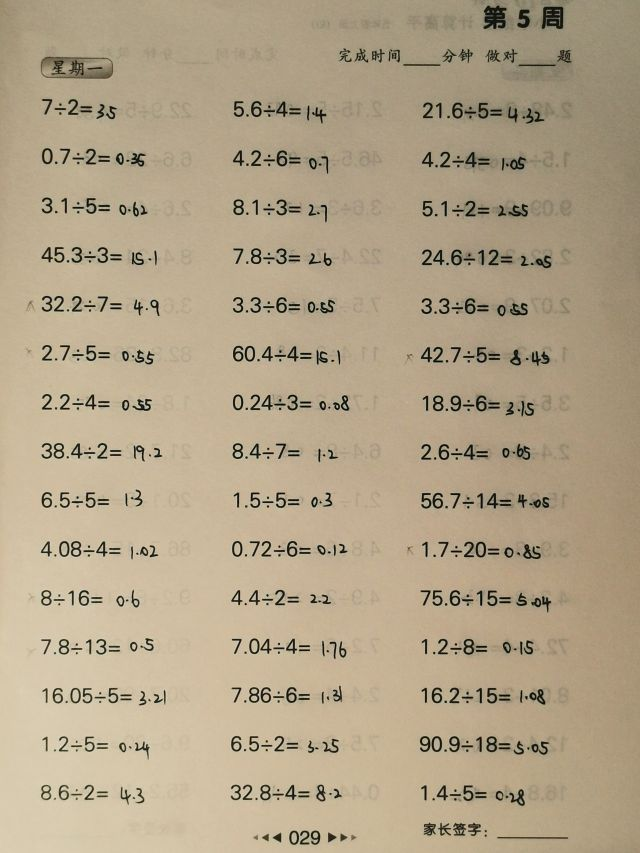equation: (403, 341, 554, 368), (415, 585, 555, 612), (25, 291, 163, 318), (417, 244, 555, 271), (403, 536, 544, 562), (418, 97, 547, 125), (415, 731, 553, 757), (37, 682, 170, 708), (417, 488, 554, 513), (417, 682, 548, 708), (418, 390, 539, 418), (415, 780, 530, 809), (37, 438, 165, 464), (37, 340, 158, 367), (36, 242, 160, 268), (228, 634, 350, 660), (228, 390, 354, 415), (36, 537, 161, 562), (227, 682, 347, 708), (228, 536, 352, 561), (227, 780, 346, 806), (227, 341, 345, 367), (36, 779, 148, 806), (226, 730, 342, 756), (418, 439, 534, 465), (229, 145, 333, 174), (418, 634, 538, 659), (38, 731, 153, 757), (227, 438, 341, 464), (417, 293, 531, 319), (37, 390, 155, 415), (37, 193, 150, 219), (417, 147, 530, 173), (228, 194, 332, 222), (36, 634, 157, 658), (36, 486, 146, 512), (418, 196, 532, 221), (36, 585, 143, 611), (228, 97, 331, 124), (229, 243, 335, 269), (229, 293, 339, 318), (36, 144, 149, 168), (228, 584, 335, 609), (230, 488, 337, 513), (36, 94, 117, 122)
